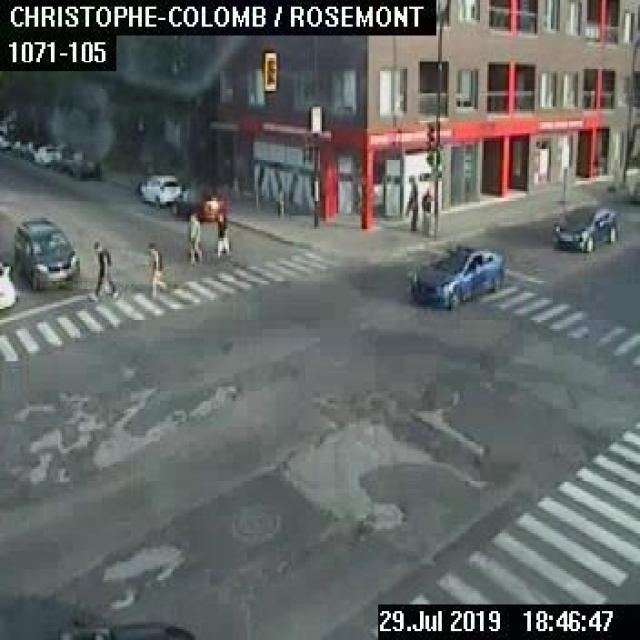pedestrian: (87, 240, 115, 300), (144, 241, 165, 300), (213, 209, 229, 262), (185, 211, 200, 265), (404, 179, 418, 230), (419, 187, 431, 231)
vehicle: (408, 244, 501, 306), (11, 213, 78, 289), (551, 204, 615, 251), (170, 185, 225, 218), (139, 173, 179, 206), (69, 150, 100, 176), (0, 258, 15, 311), (32, 144, 60, 164), (19, 140, 38, 158)
